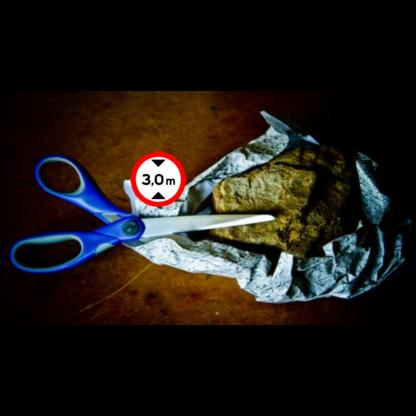R-15: (130, 151, 186, 207)
